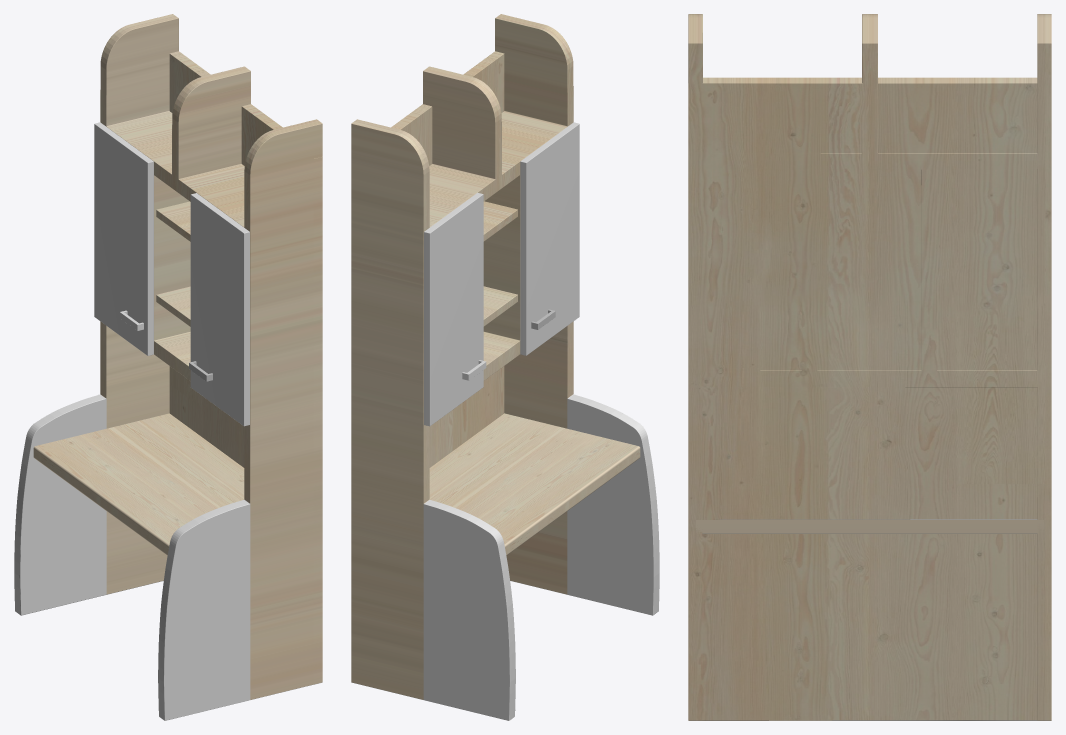
The model's file is desk_l.fbx.
3 views of the same model, side by side, from view 1: azimuth 30°, elevation 25°; view 2: azimuth 150°, elevation 25°; view 3: azimuth 270°, elevation 25° (orthographic). The views are drawn at different scales.
Visible parts, largest first — view 1: polySurface30, polySurface29, polySurface39, polySurface23, polySurface31, polySurface32, polySurface33; view 2: polySurface30, polySurface29, polySurface23, polySurface39, polySurface31, polySurface32, polySurface33; view 3: polySurface31, polySurface30, polySurface29.
Boxes of the visible parts, bbox=[...] form: polySurface30: bbox=[14, 14, 322, 720]; polySurface29: bbox=[33, 413, 244, 555]; polySurface39: bbox=[190, 193, 249, 426]; polySurface23: bbox=[94, 122, 153, 355]; polySurface31: bbox=[169, 51, 322, 684]; polySurface32: bbox=[156, 286, 190, 326]; polySurface33: bbox=[156, 201, 190, 241]; polySurface30: bbox=[351, 14, 659, 720]; polySurface29: bbox=[429, 413, 640, 555]; polySurface23: bbox=[424, 192, 483, 426]; polySurface39: bbox=[520, 122, 579, 355]; polySurface31: bbox=[391, 51, 504, 467]; polySurface32: bbox=[483, 286, 517, 326]; polySurface33: bbox=[483, 201, 517, 241]; polySurface31: bbox=[688, 77, 1037, 720]; polySurface30: bbox=[688, 14, 1051, 720]; polySurface29: bbox=[696, 519, 1043, 533].
Size of the model in its own units: 6.13 by 20.58 by 10.
Materials: 4 (1 with a texture image).
